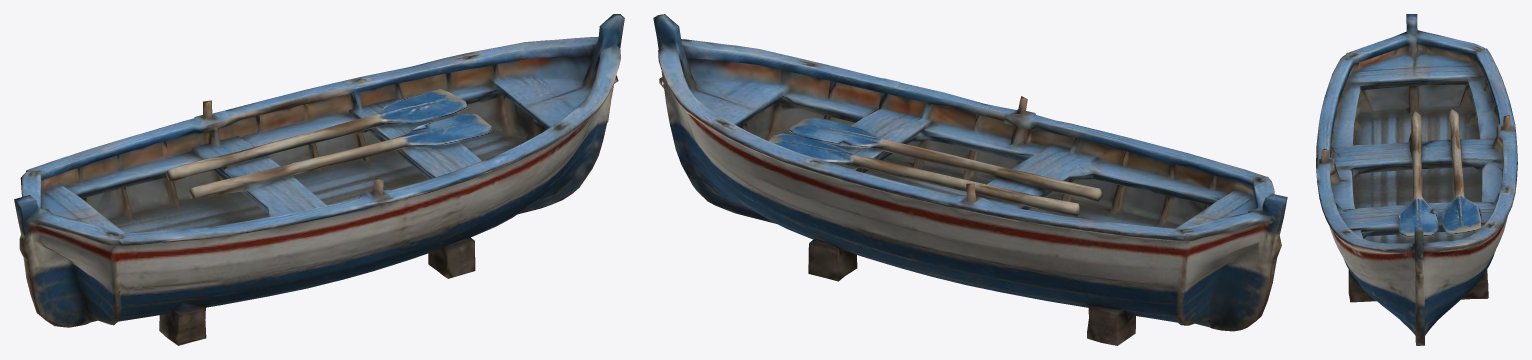
Rendered from prop_fishing_boat.glb.
3 renders of one model, left to right at view 1: azimuth 30°, elevation 25°; view 2: azimuth 150°, elevation 25°; view 3: azimuth 270°, elevation 25°, orthographic. The views are drawn at different scales.
Visible parts, largest first — view 1: tripo_node_2338c8e3-b0cf-4a38-8cff-5e417ee69520; view 2: tripo_node_2338c8e3-b0cf-4a38-8cff-5e417ee69520; view 3: tripo_node_2338c8e3-b0cf-4a38-8cff-5e417ee69520.
Boxes of the visible parts, <box> form: tripo_node_2338c8e3-b0cf-4a38-8cff-5e417ee69520: <box>14,14,624,345</box>; tripo_node_2338c8e3-b0cf-4a38-8cff-5e417ee69520: <box>653,14,1287,345</box>; tripo_node_2338c8e3-b0cf-4a38-8cff-5e417ee69520: <box>1316,14,1517,345</box>.
Size of the model in its own units: 1 by 0.2838 by 0.3475.
1 material, 1 textured.
